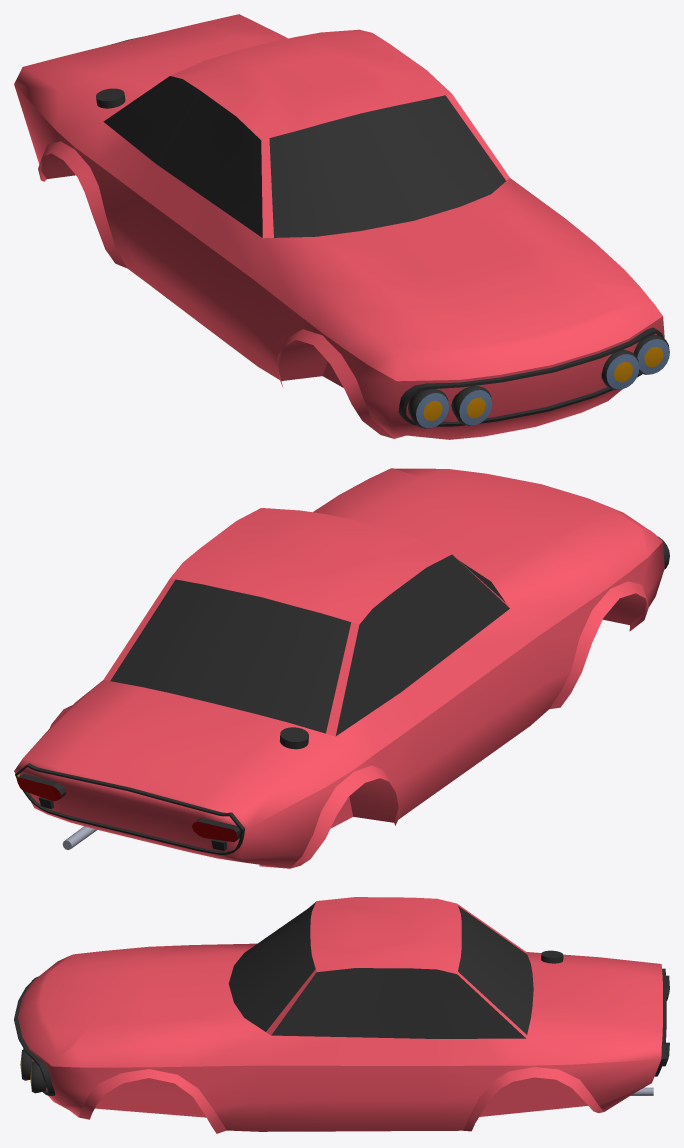
File: car_1.fbx
3 views of the same model, one above another, from view 1: azimuth 30°, elevation 25°; view 2: azimuth 150°, elevation 25°; view 3: azimuth 270°, elevation 25° (orthographic). The views are drawn at different scales.
Parts seen in each view (by area): view 1: Lancia Fulvia, Lancia Fulvia.002; view 2: Lancia Fulvia, Lancia Fulvia.002; view 3: Lancia Fulvia, Lancia Fulvia.002.
Part boxes in pixels (left/top/right/bottom): Lancia Fulvia: left=14, top=14, right=669, bottom=439; Lancia Fulvia.002: left=103, top=76, right=505, bottom=237; Lancia Fulvia: left=14, top=468, right=669, bottom=868; Lancia Fulvia.002: left=110, top=554, right=509, bottom=735; Lancia Fulvia: left=14, top=897, right=669, bottom=1133; Lancia Fulvia.002: left=228, top=903, right=533, bottom=1038.
Bounding box in the file's own units: 164 × 105 × 395.
